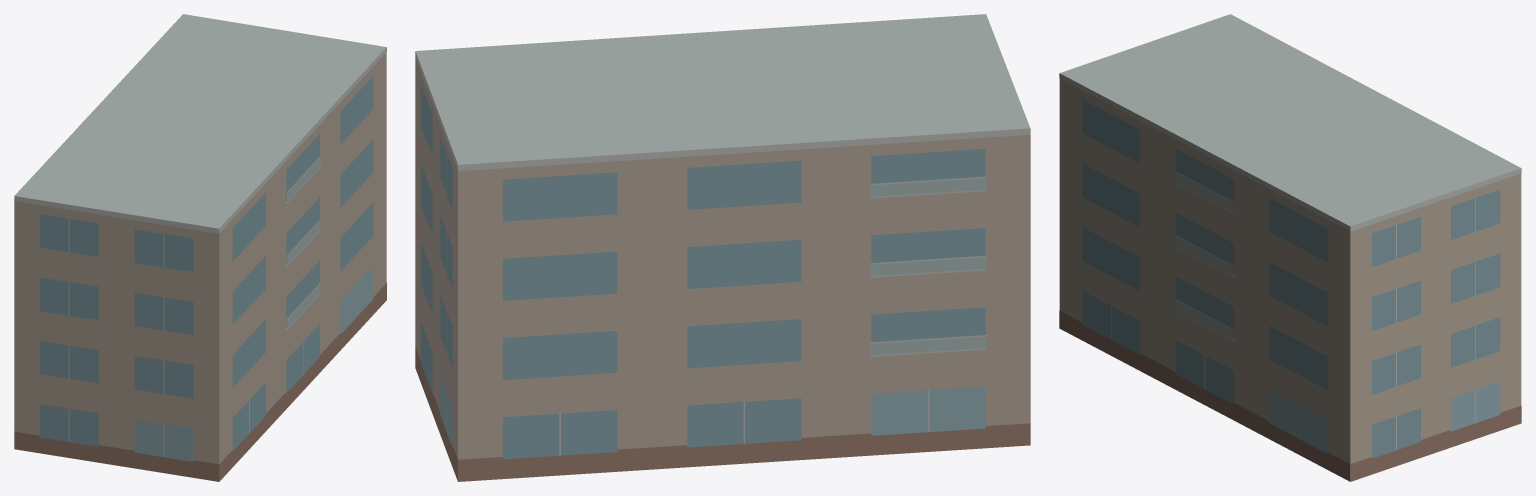
File: survey-upis-32771479.glb
3 renders of one model, left to right at view 1: azimuth 30°, elevation 25°; view 2: azimuth 150°, elevation 25°; view 3: azimuth 270°, elevation 25°, orthographic. The views are drawn at different scales.
Visible parts, largest first — view 1: survey-upis-32771479.tmp; view 2: survey-upis-32771479.tmp; view 3: survey-upis-32771479.tmp.
Boxes of the visible parts, x1,y1,x2,y2 form: survey-upis-32771479.tmp: [14, 14, 386, 481]; survey-upis-32771479.tmp: [415, 14, 1030, 481]; survey-upis-32771479.tmp: [1059, 14, 1521, 481].
Size of the model in its own units: 21.79 by 12.2 by 20.01.
